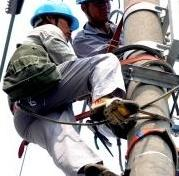boots: (90, 96, 138, 139), (76, 161, 122, 176)
gloves: (90, 96, 138, 139), (76, 161, 120, 176)
hard-hat: (30, 0, 78, 31)
ppe-suit: (0, 22, 131, 176)
